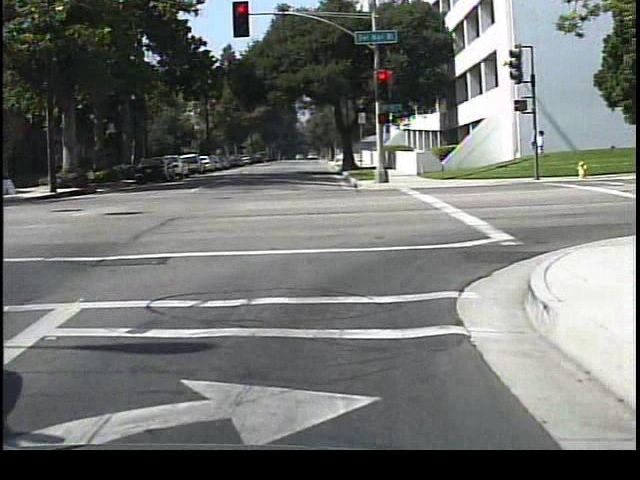person: (523, 127, 547, 175)
